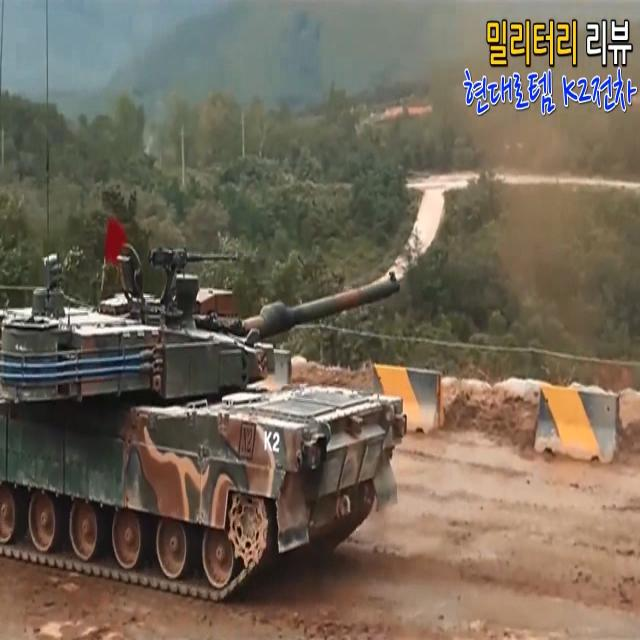korea tank: (0, 244, 408, 604)
